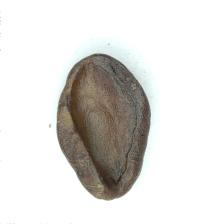NG: (67, 56, 142, 190)
